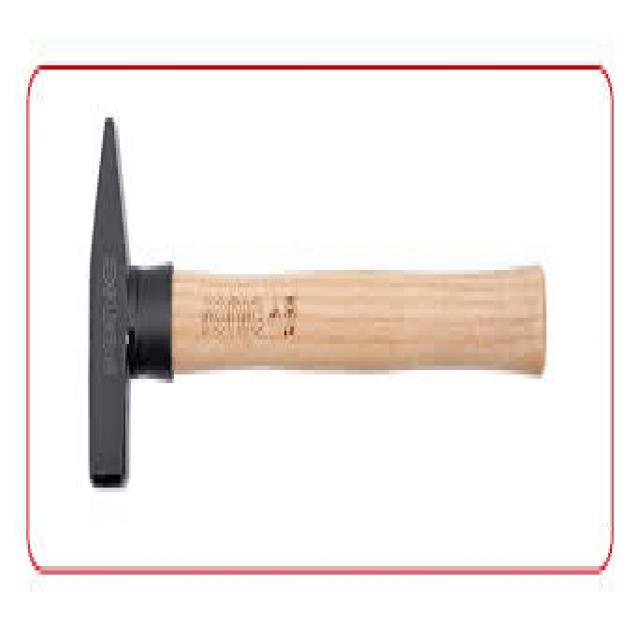hammer: (66, 100, 552, 518)
